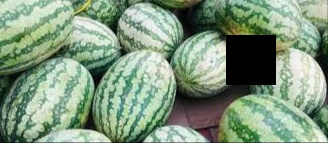watermelon: (94, 48, 178, 133), (4, 59, 91, 141), (247, 48, 326, 117), (174, 30, 241, 100), (119, 2, 184, 53)
